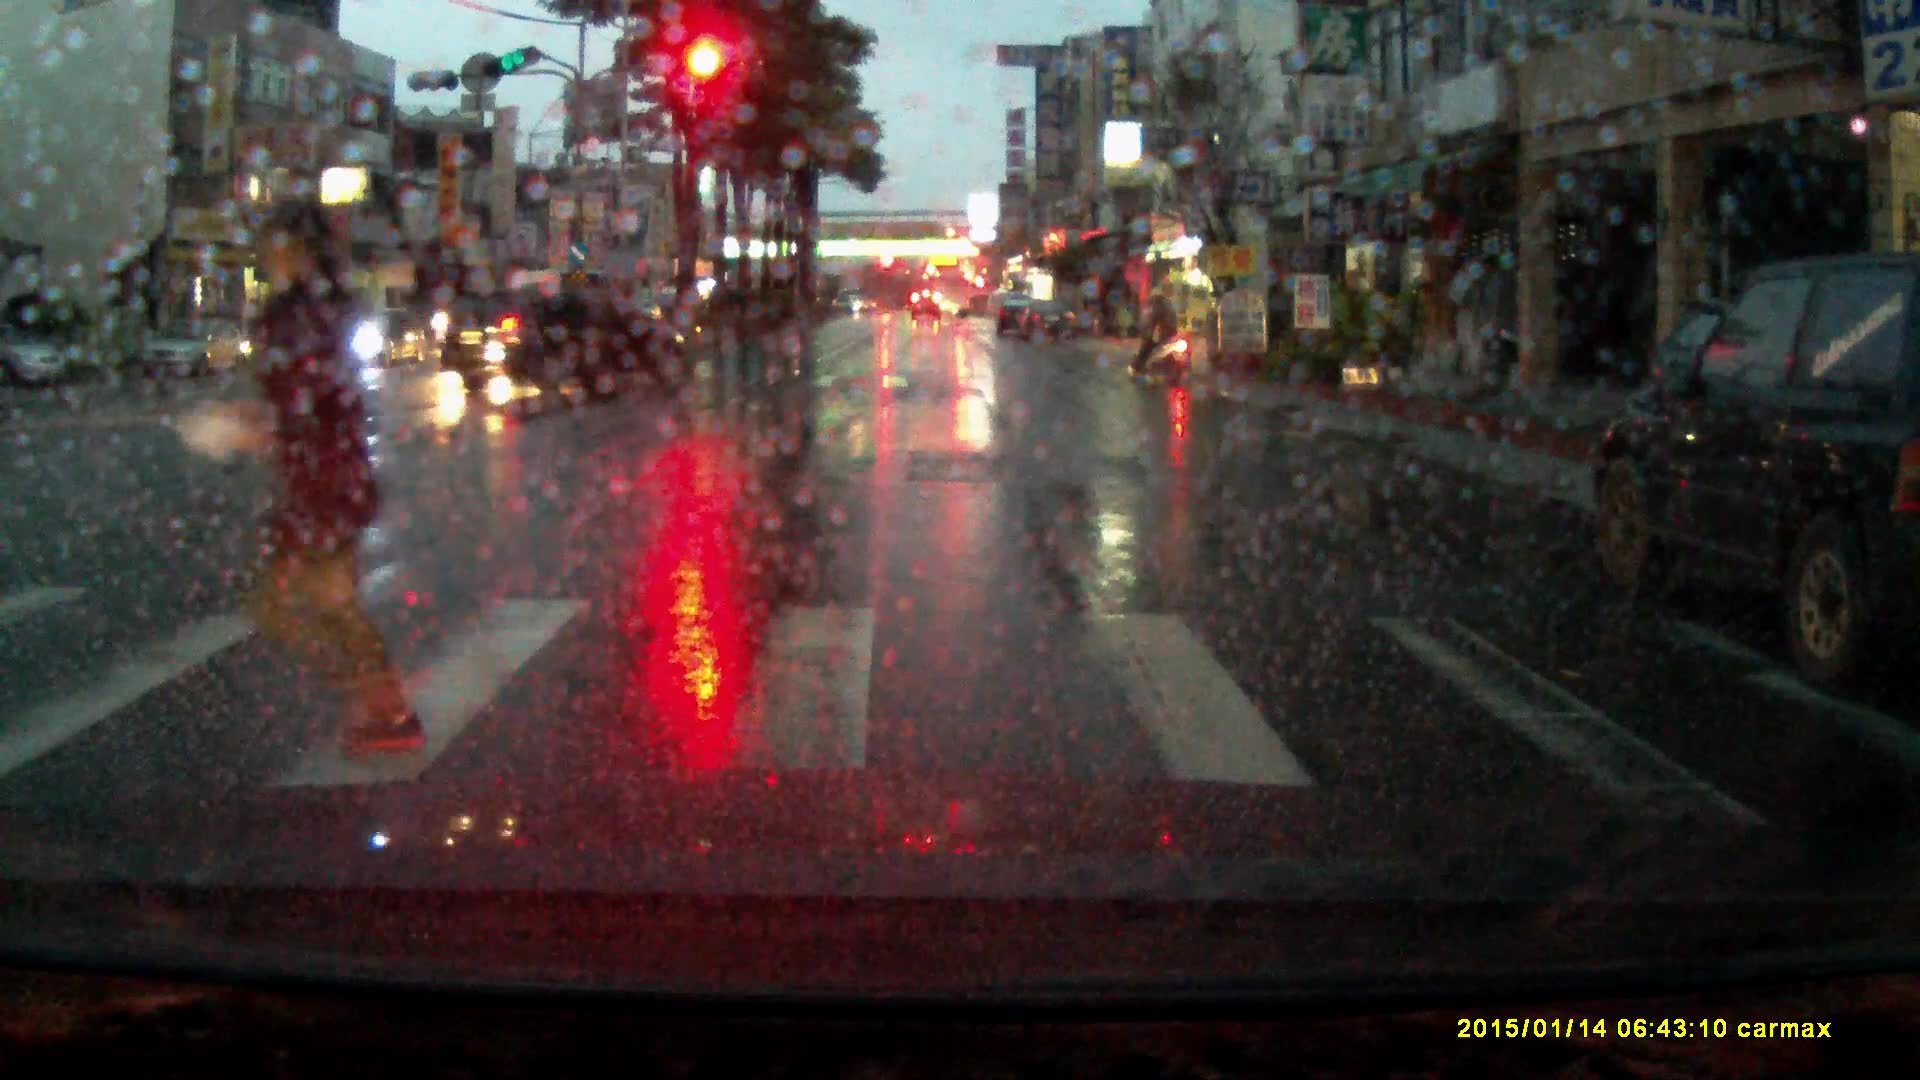pedestrian: (236, 178, 530, 765)
rider: (1135, 276, 1199, 387)
vehicle: (1582, 248, 1920, 683), (426, 284, 690, 399), (317, 304, 429, 373), (142, 314, 253, 380), (494, 268, 591, 341), (574, 288, 664, 340), (1017, 300, 1079, 346), (931, 264, 973, 321), (995, 295, 1030, 338), (911, 291, 943, 322)
